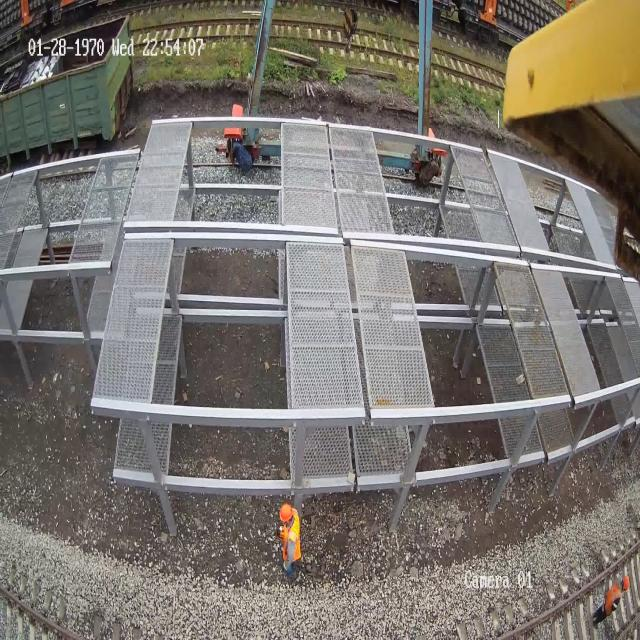Helmet: (616, 568, 634, 593), (279, 502, 293, 521)
Person: (594, 570, 634, 622), (279, 502, 301, 577)
